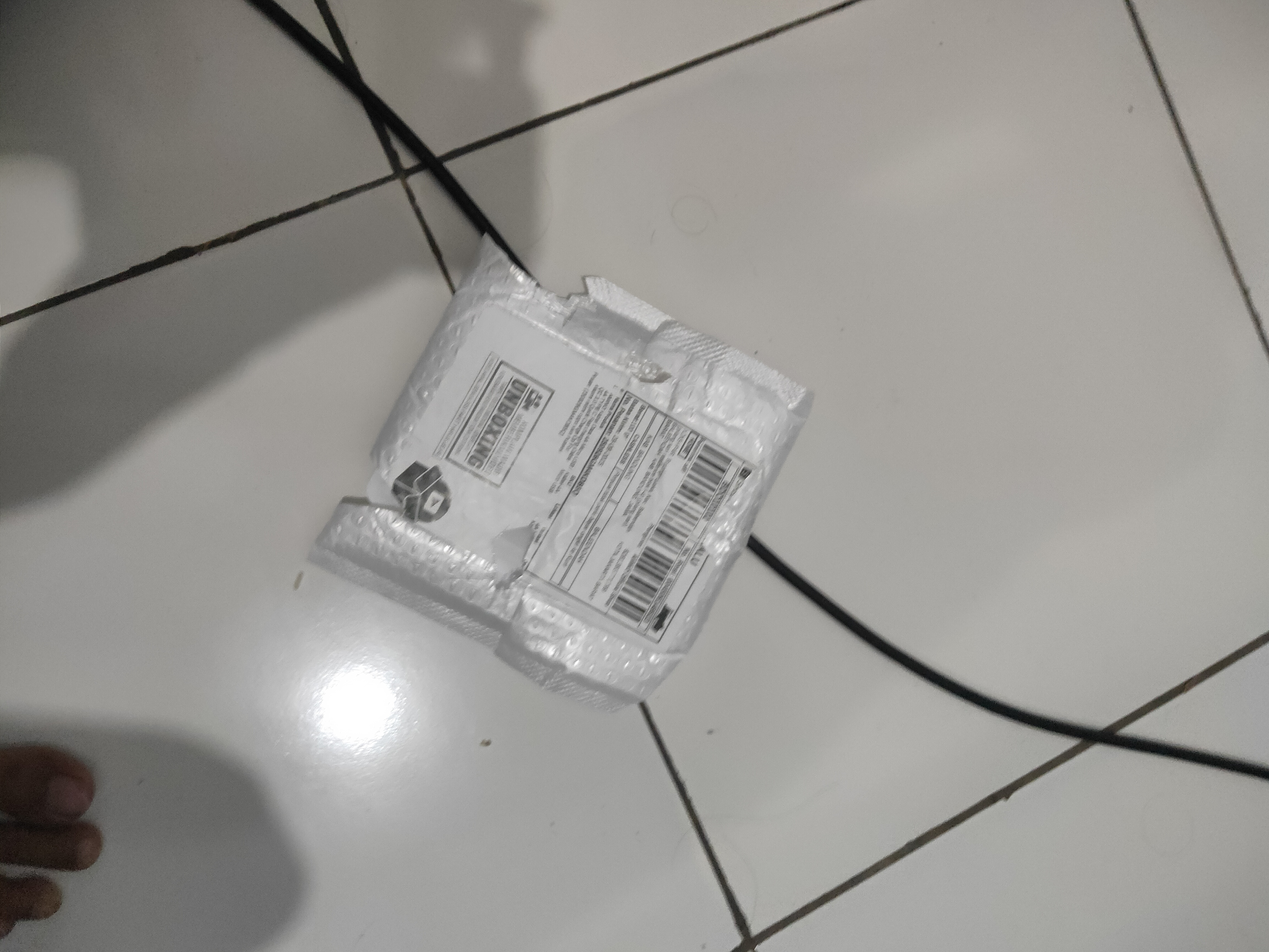damaged package: (690, 463, 763, 570), (489, 242, 589, 303), (341, 450, 405, 513), (487, 522, 542, 595), (623, 335, 678, 390)
undamaged: (305, 252, 814, 708)
